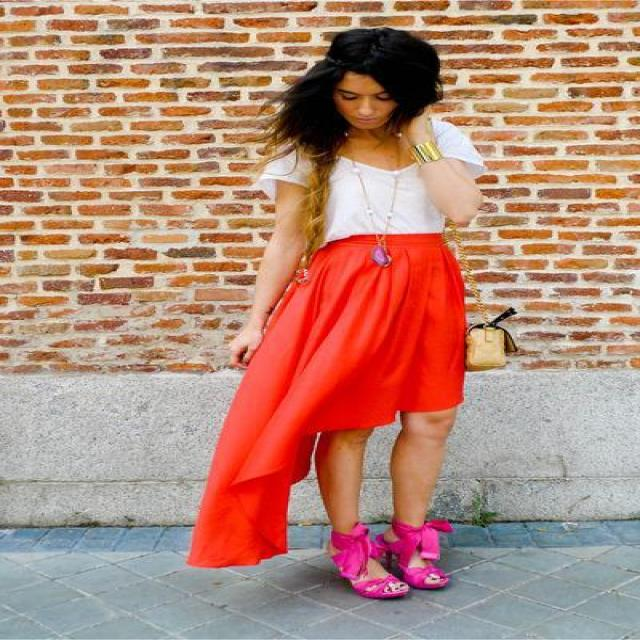shirt: (250, 155, 428, 241)
shoe: (331, 520, 453, 600)
skirt: (187, 233, 478, 566)
